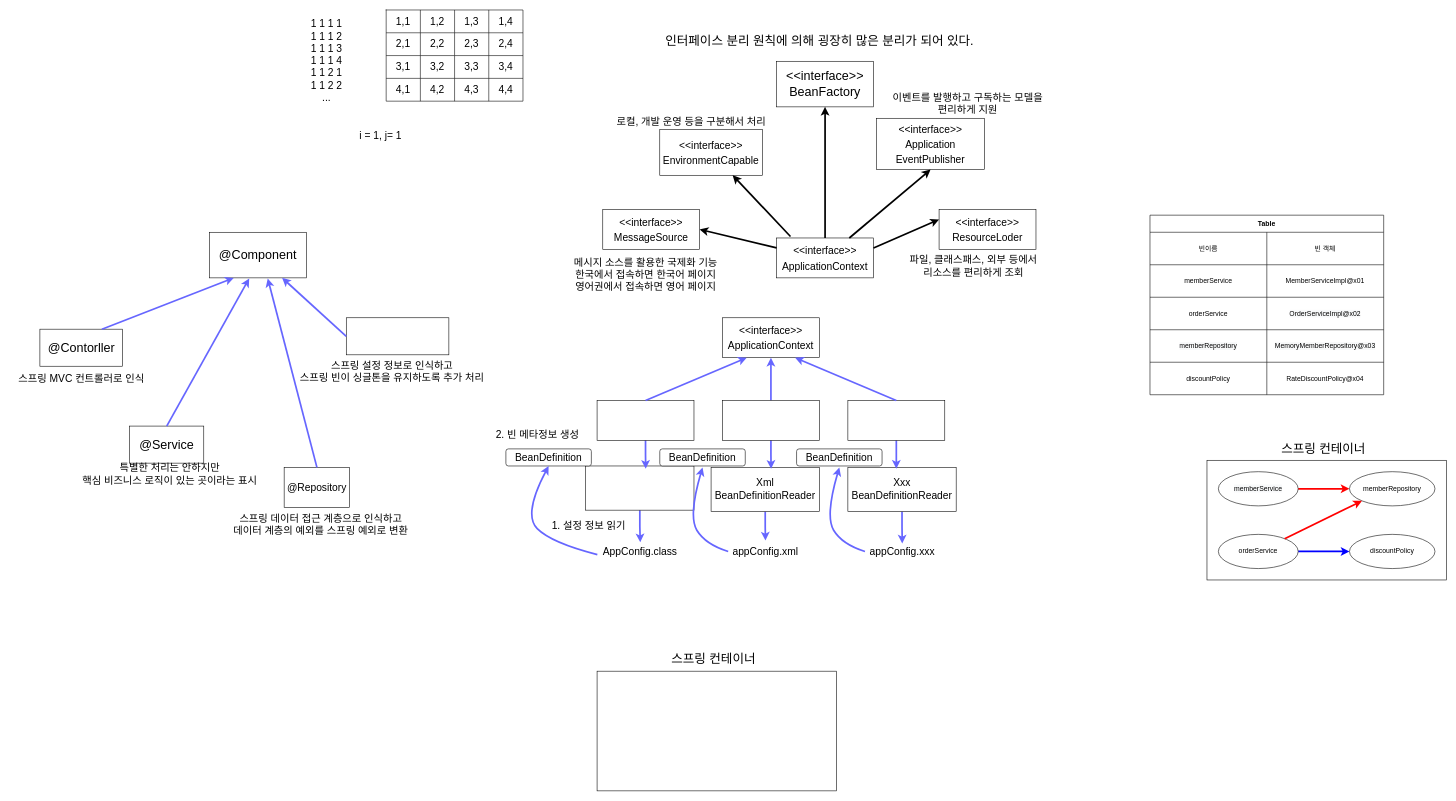
This 1456x801 diagram has some shape labels left out. Each missing label, with the centre of its shape:
@Configuration: point 397,336
Annotated BeanDefinitionReader: point 639,487
AnnotationConfig ApplicationContext: point 645,420
GenericXml ApplicationContext: point 770,420
Xxx ApplicationContext: point 896,420
